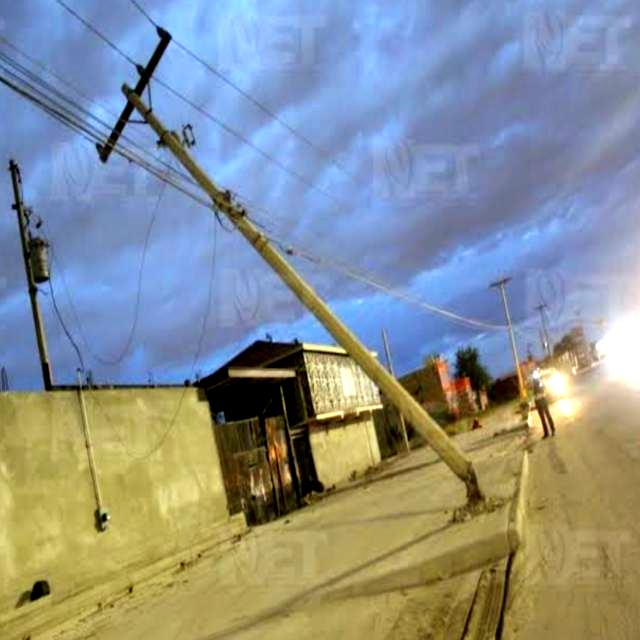Broken Pole: (94, 25, 483, 508)
